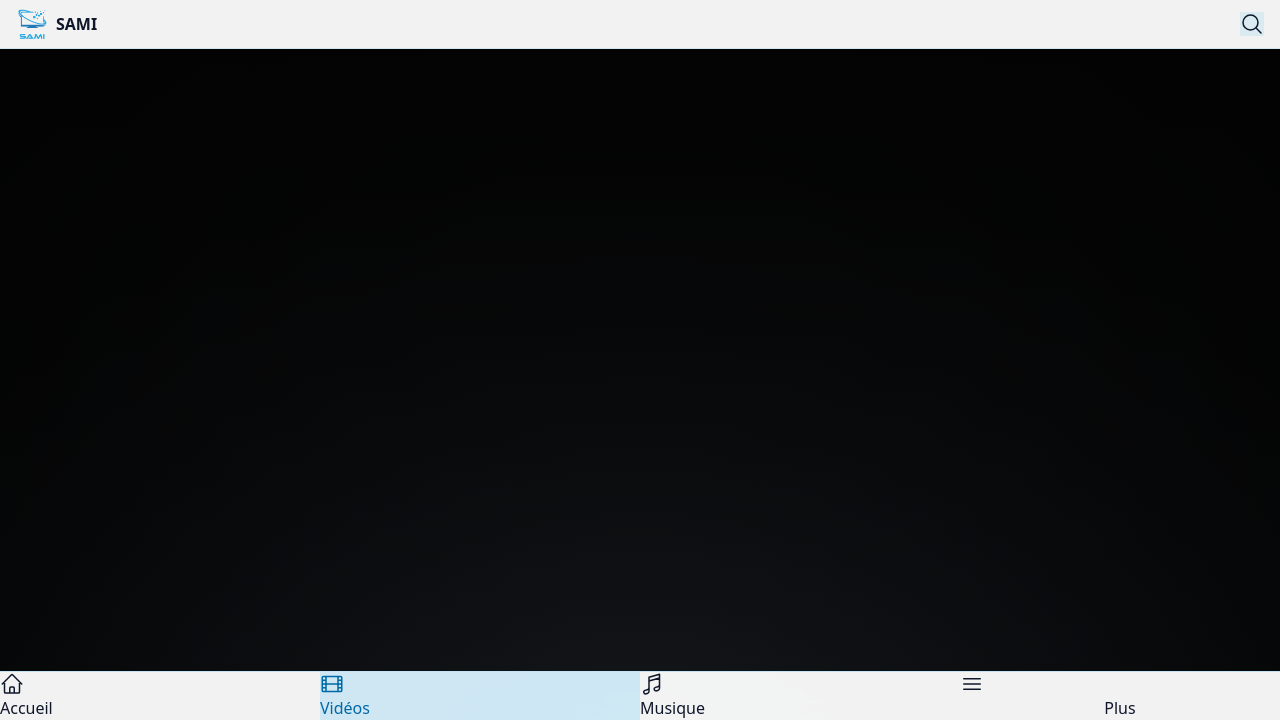
Scenario: ouvre la recherche au toucher
This screenshot has width=1280, height=720.
Click the button named "Rechercher": (1252, 24) [1240, 12, 1264, 36]
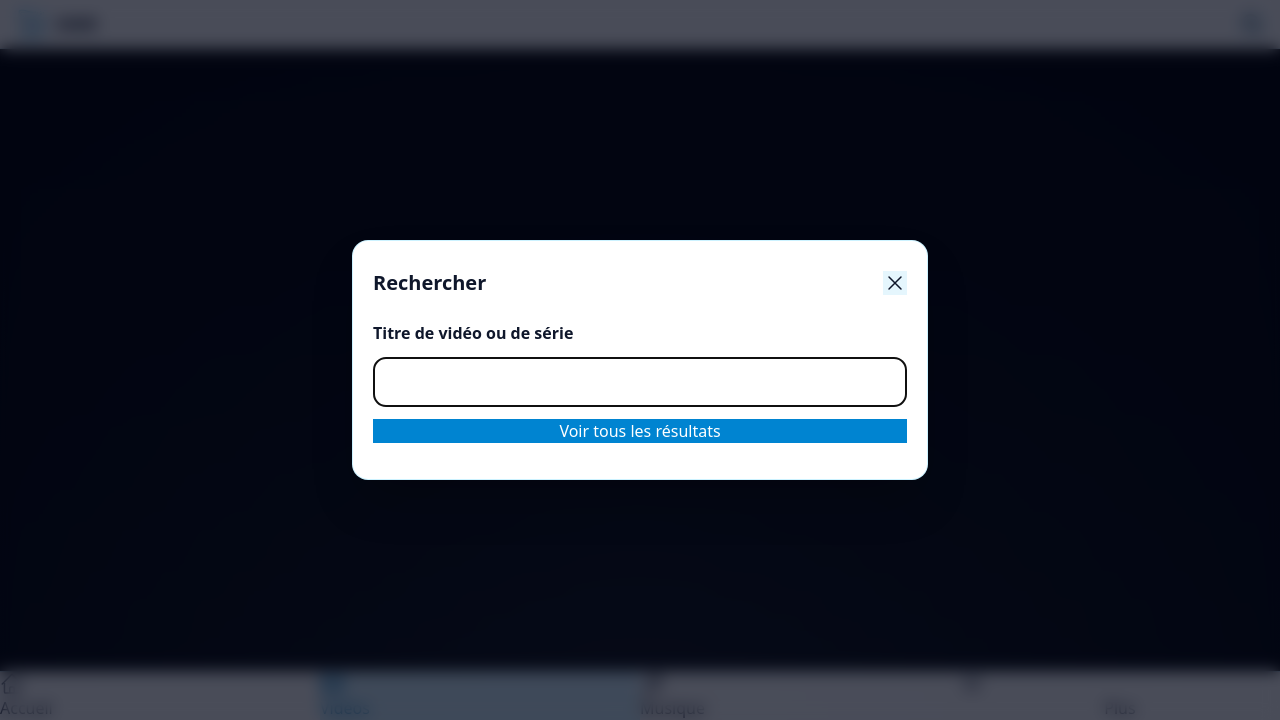
Check: the search field labelled "Titre de vidéo ou de série" is shown, box [373, 357, 907, 407]
